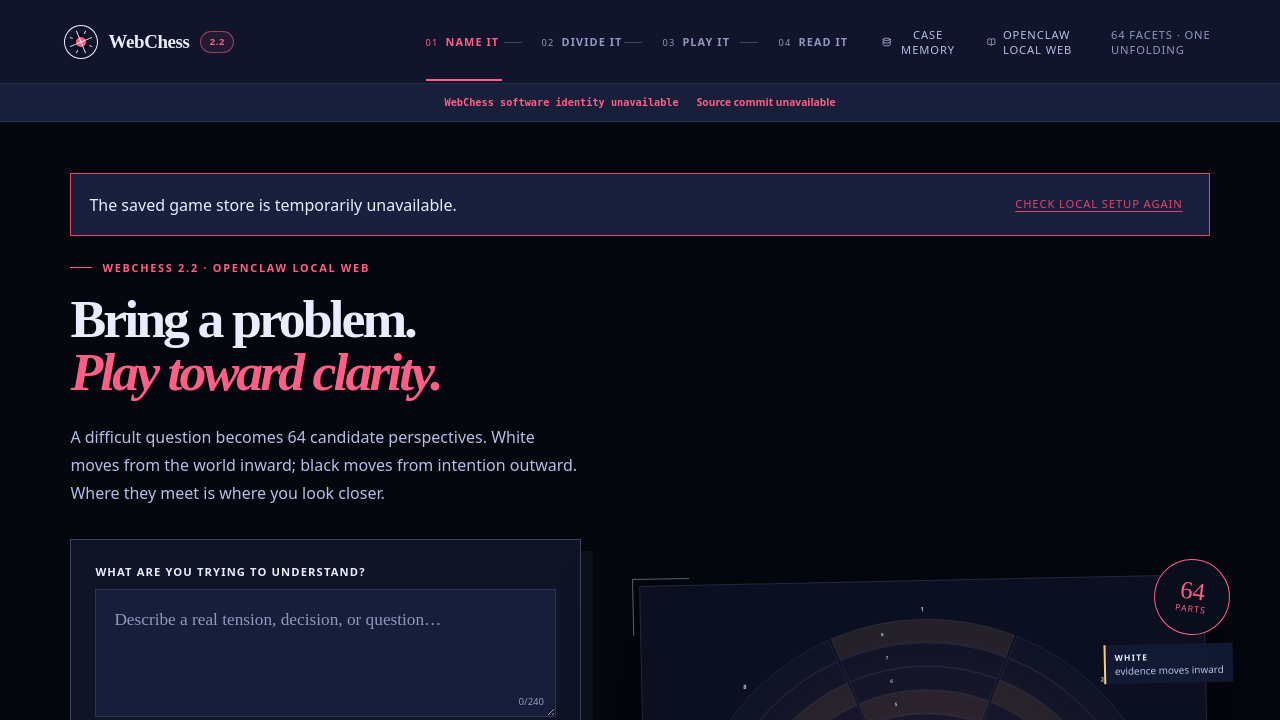
Test case: durable WebChess client flow › shows a restore failure and retries the durable replay on demand
Expected: the message "The saved game store is temporarily unavailable. Check local setup again" is shown, [70,173,1210,236]
Click the button "Check local setup again" at (1099,205), box [1007,188,1191,221]
(page scrolled)
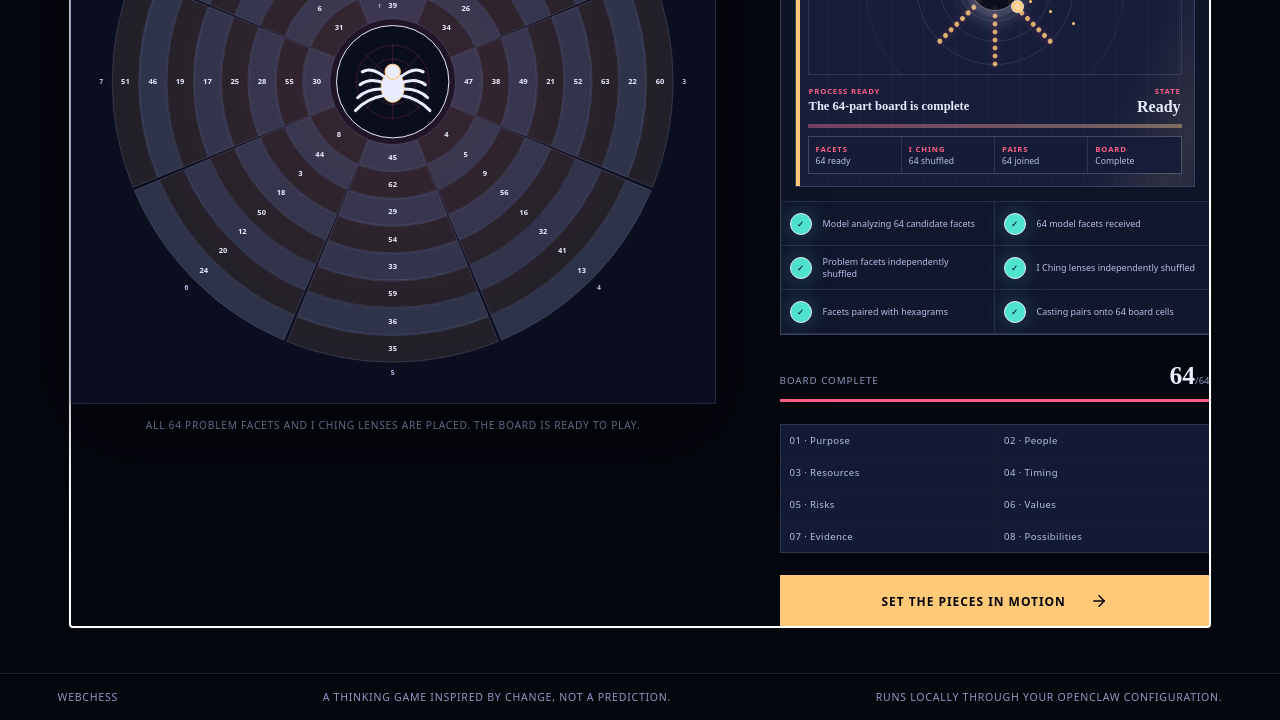
Expected: the button "Set the pieces in motion" is enabled, [780,575,1210,627]
